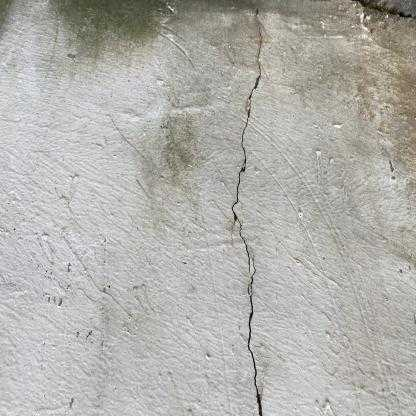crack: (231, 10, 265, 409)
